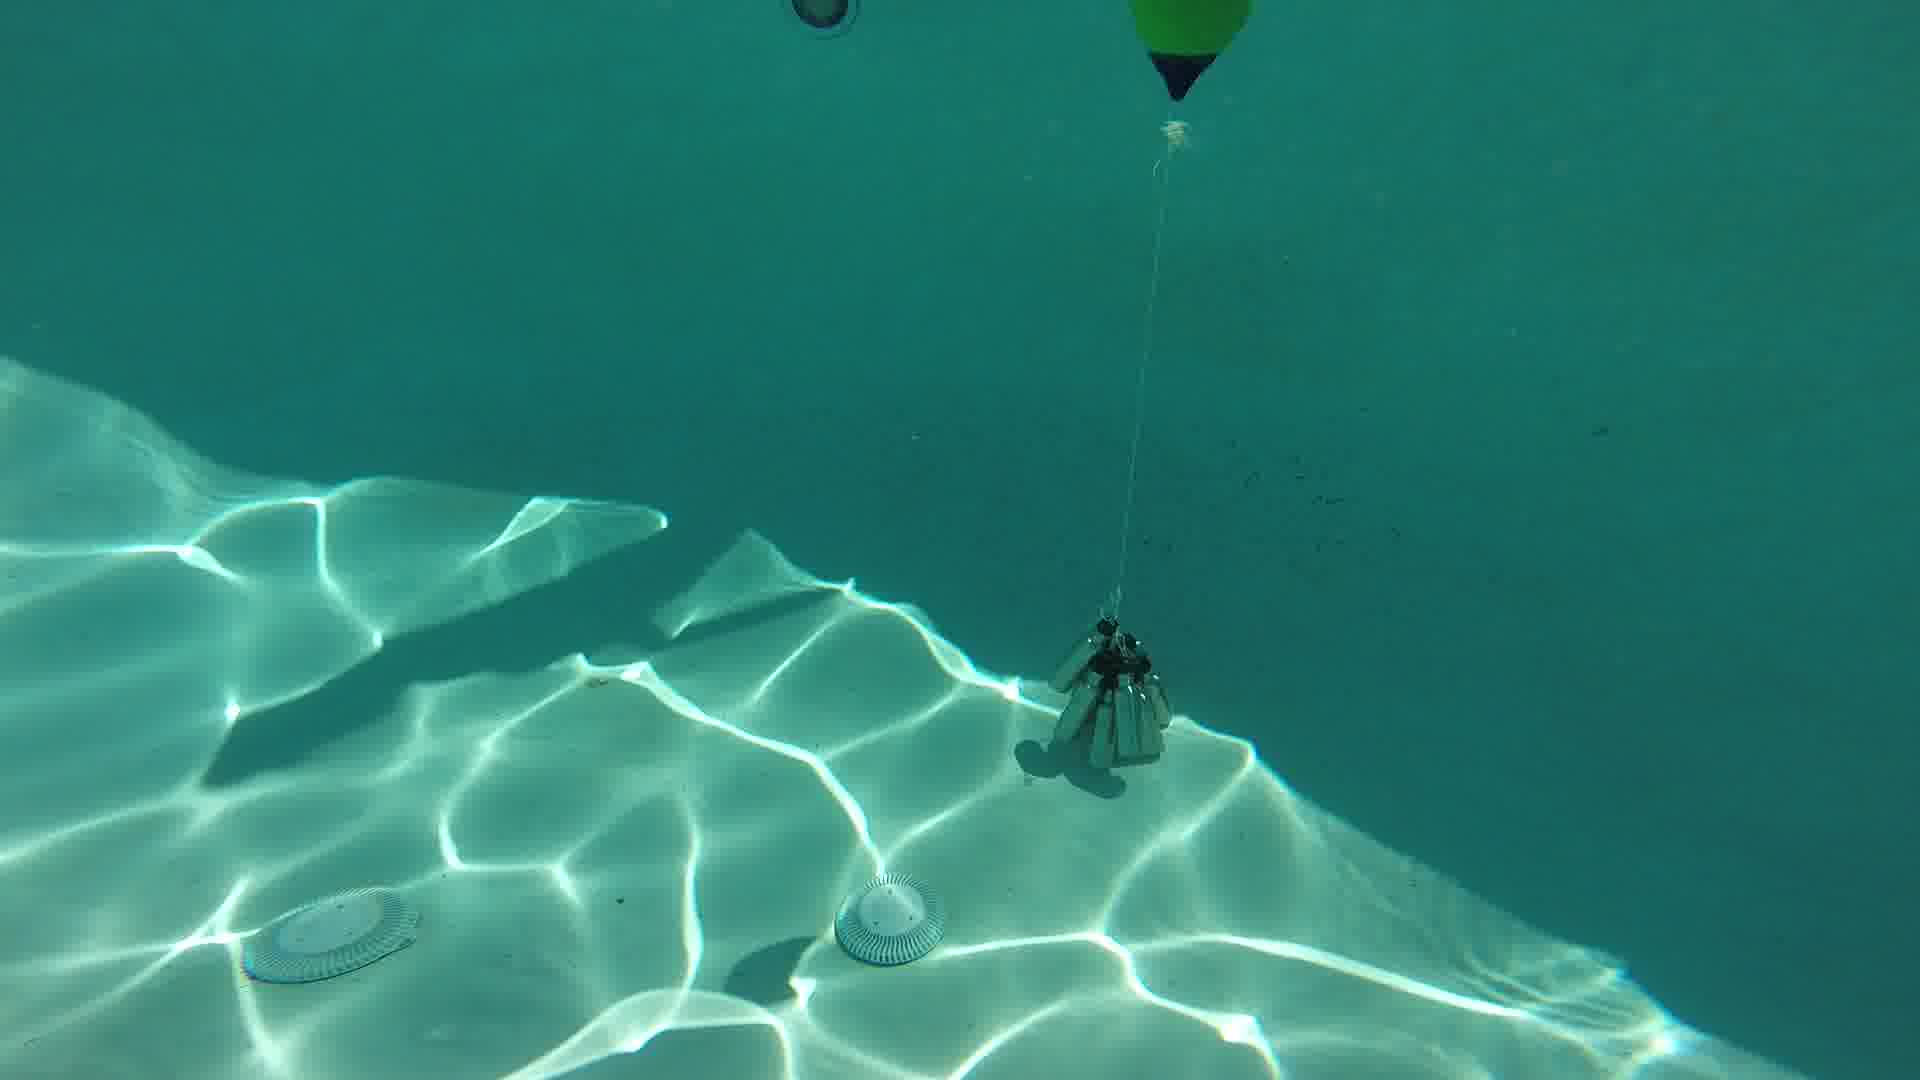yellow_buoy: (1085, 11, 1284, 150)
